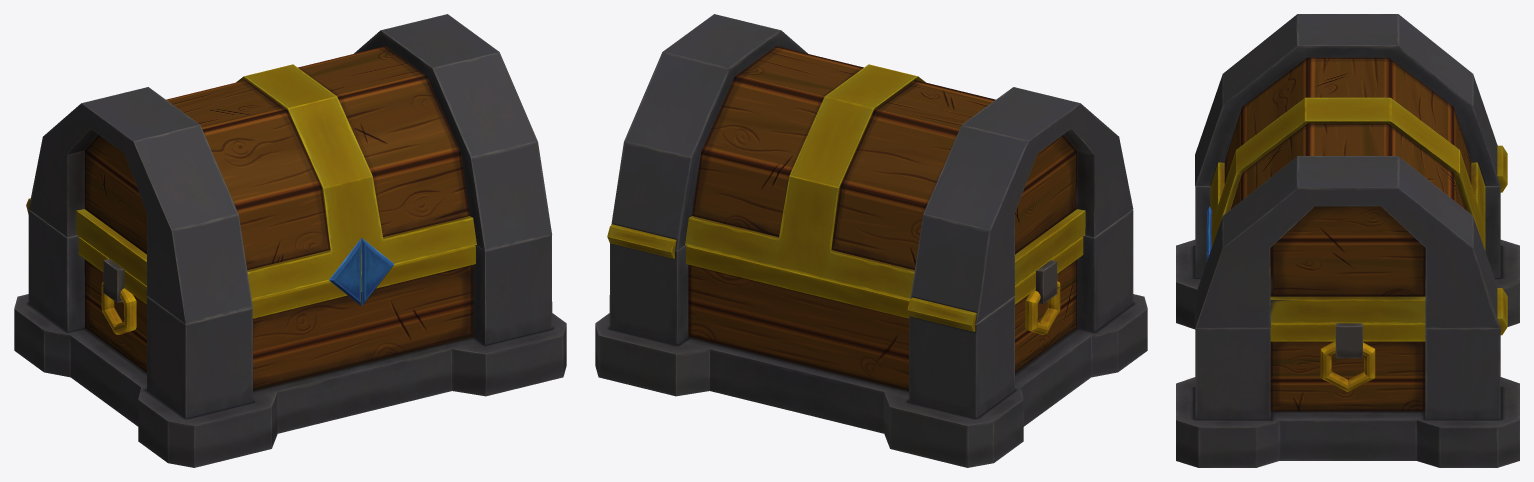
Rendered from Gold Chest.glb.
3 views of the same model, side by side, from view 1: azimuth 30°, elevation 25°; view 2: azimuth 150°, elevation 25°; view 3: azimuth 270°, elevation 25° (orthographic). The views are drawn at different scales.
Parts seen in each view (by area): view 1: Gold ChestRoof, Gold Chest; view 2: Gold ChestRoof, Gold Chest; view 3: Gold ChestRoof, Gold Chest.
Part boxes in pixels (x1,y1,x2,y2): Gold ChestRoof: (29, 14, 552, 323); Gold Chest: (14, 198, 566, 467); Gold ChestRoof: (611, 14, 1133, 323); Gold Chest: (595, 210, 1147, 467); Gold ChestRoof: (1195, 14, 1500, 328); Gold Chest: (1176, 145, 1519, 467).
Bounding box in the file's own units: 1.46 × 0.9821 × 1.12.
1 material, 1 textured.
